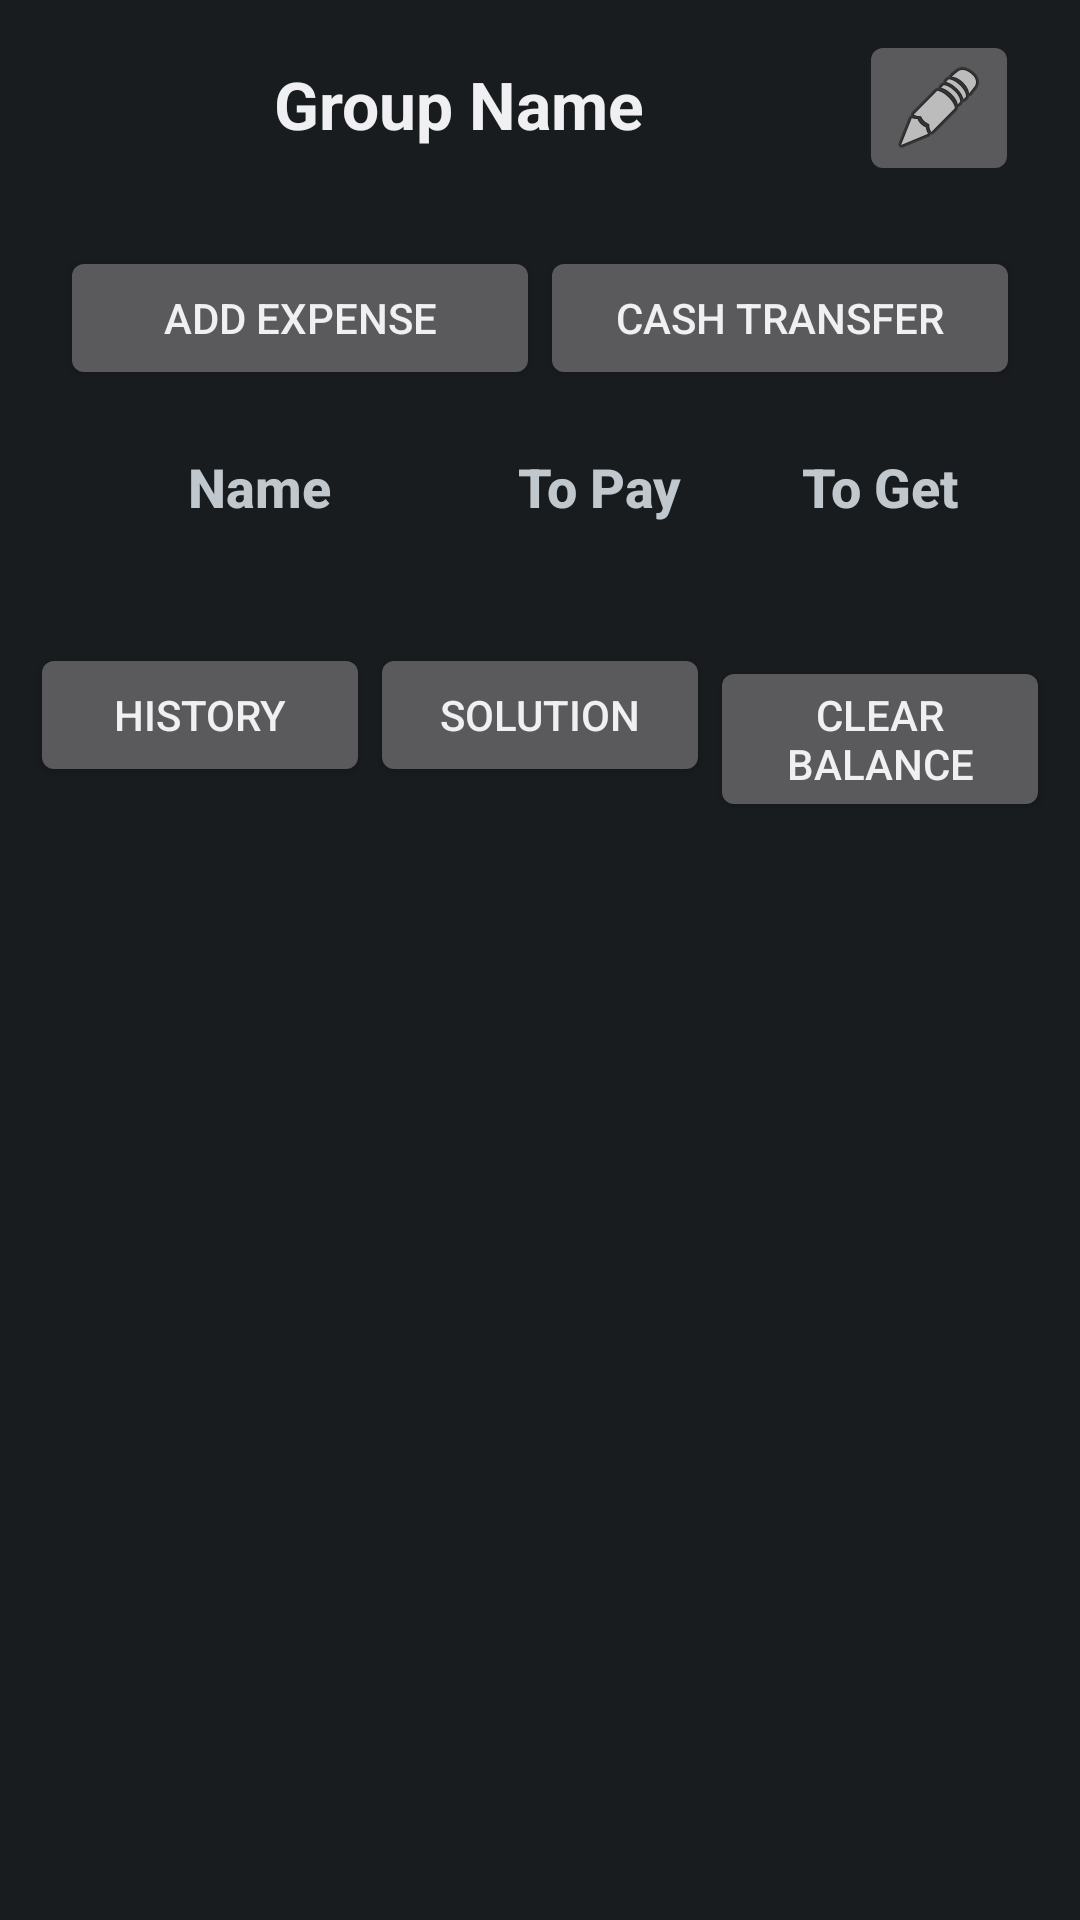

Icon click points for this 1080*1920 phone screenshot, format point (x, y):
Edit name of the group: point (939, 108)
